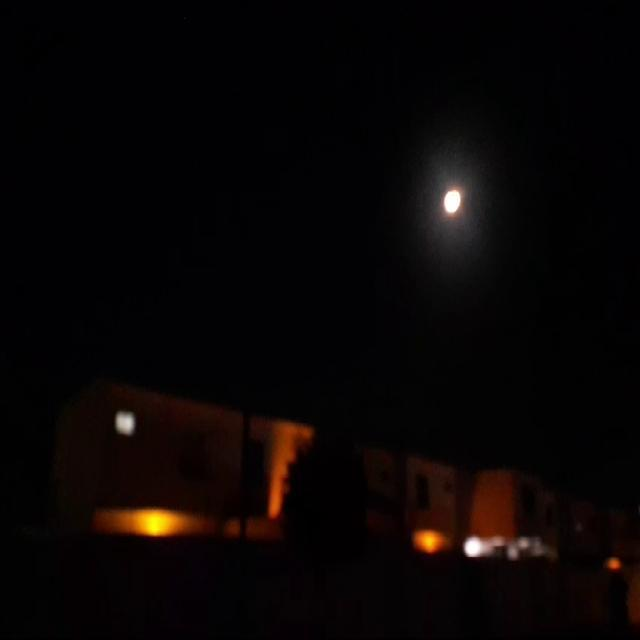moon: (440, 186, 463, 220)
